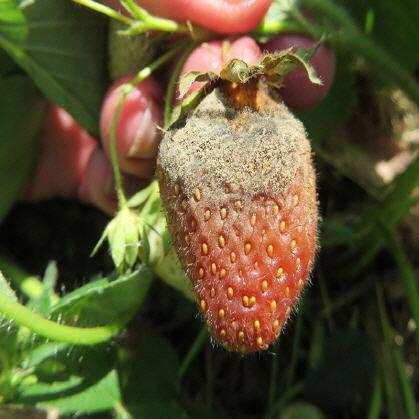Gray Mold: (156, 46, 319, 351)
